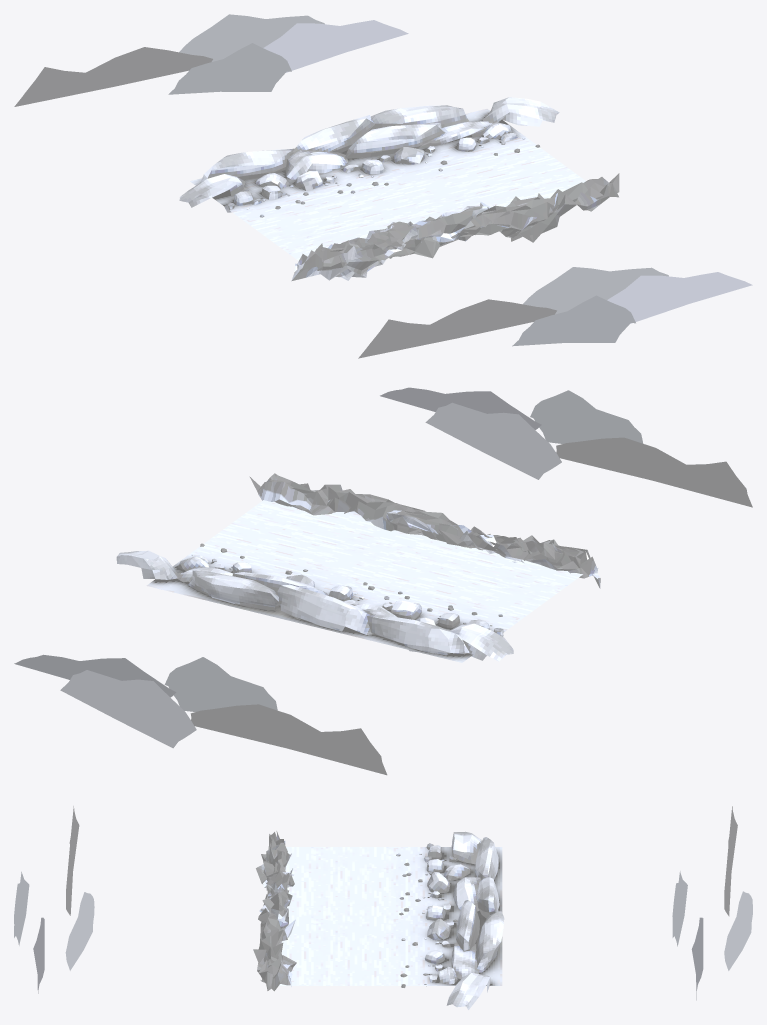
Rendered from MetaScreen_rocktest1.glb.
The picture shows the model from 3 angles, top to bottom: view 1: azimuth 30°, elevation 25°; view 2: azimuth 150°, elevation 25°; view 3: azimuth 270°, elevation 25°; orthographic projection. The views are drawn at different scales.
Visible parts, largest first — view 1: Plane.004; view 2: Plane.004; view 3: Plane.004.
Boxes of the visible parts, box(x1,y1,x2,y2) form: Plane.004: box(14, 14, 752, 358); Plane.004: box(14, 387, 752, 775); Plane.004: box(14, 806, 752, 1009).
Bounding box in the file's own units: 66.99 × 9.61 × 112.
Materials: 2 (2 with a texture image).
